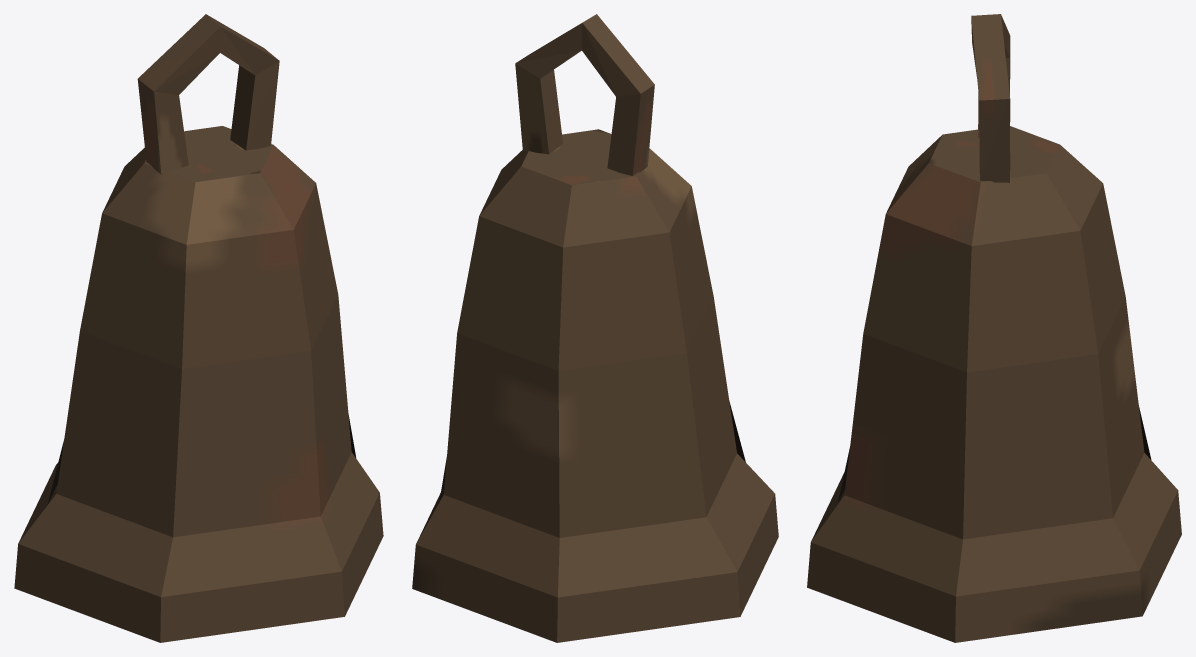
Rendered from SM_MK18_BellOld.fbx.
3 renders of one model, left to right at view 1: azimuth 30°, elevation 25°; view 2: azimuth 150°, elevation 25°; view 3: azimuth 270°, elevation 25°, orthographic. The views are drawn at different scales.
Visible parts, largest first — view 1: MK18_Bell; view 2: MK18_Bell; view 3: MK18_Bell.
Boxes of the visible parts, box(x1,y1,x2,y2) form: MK18_Bell: box(14, 14, 383, 642); MK18_Bell: box(412, 14, 778, 642); MK18_Bell: box(807, 14, 1181, 642).
Bounding box in the file's own units: 0.196 × 0.308 × 0.1896.
